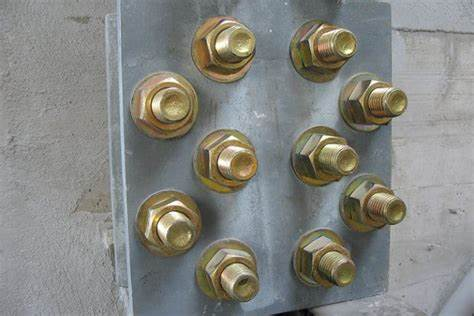bolt_b: (140, 198, 200, 256), (137, 75, 194, 136), (203, 132, 258, 191), (201, 17, 256, 75), (204, 247, 259, 304), (300, 233, 354, 291), (298, 22, 352, 73), (299, 130, 349, 183), (348, 179, 398, 230), (348, 77, 396, 126)
